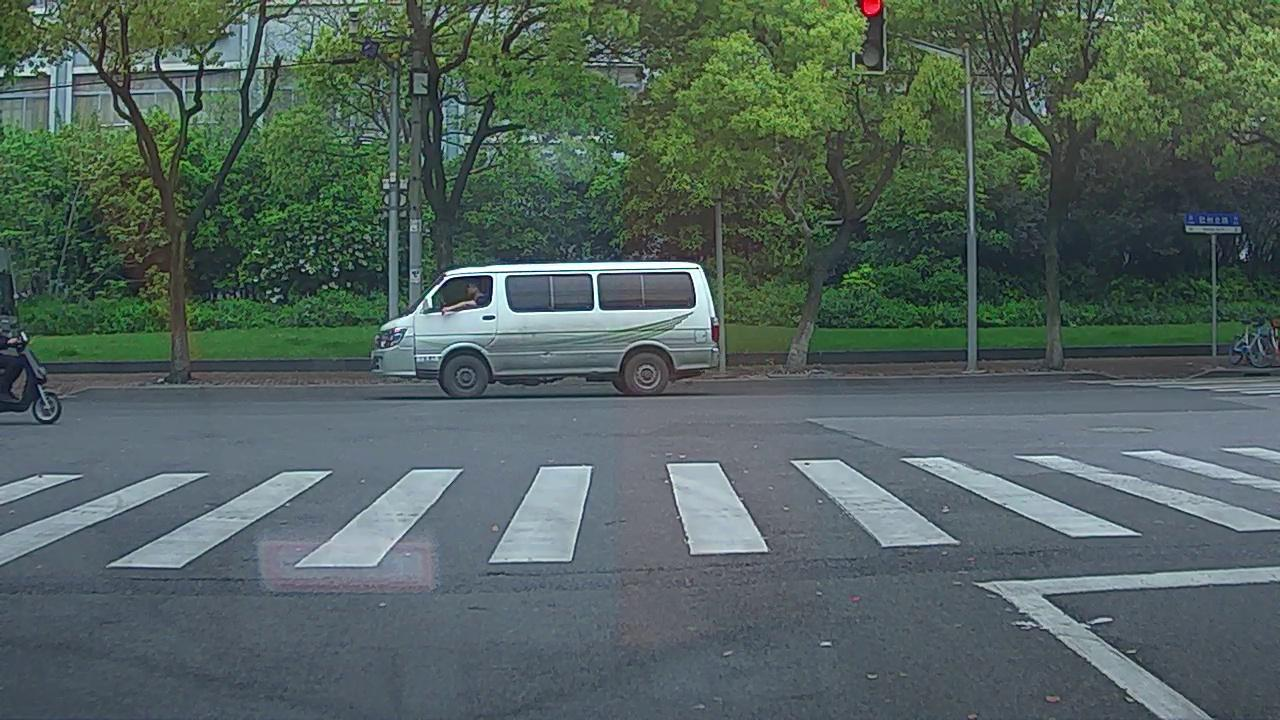traffic_light: (858, 1, 882, 69)
